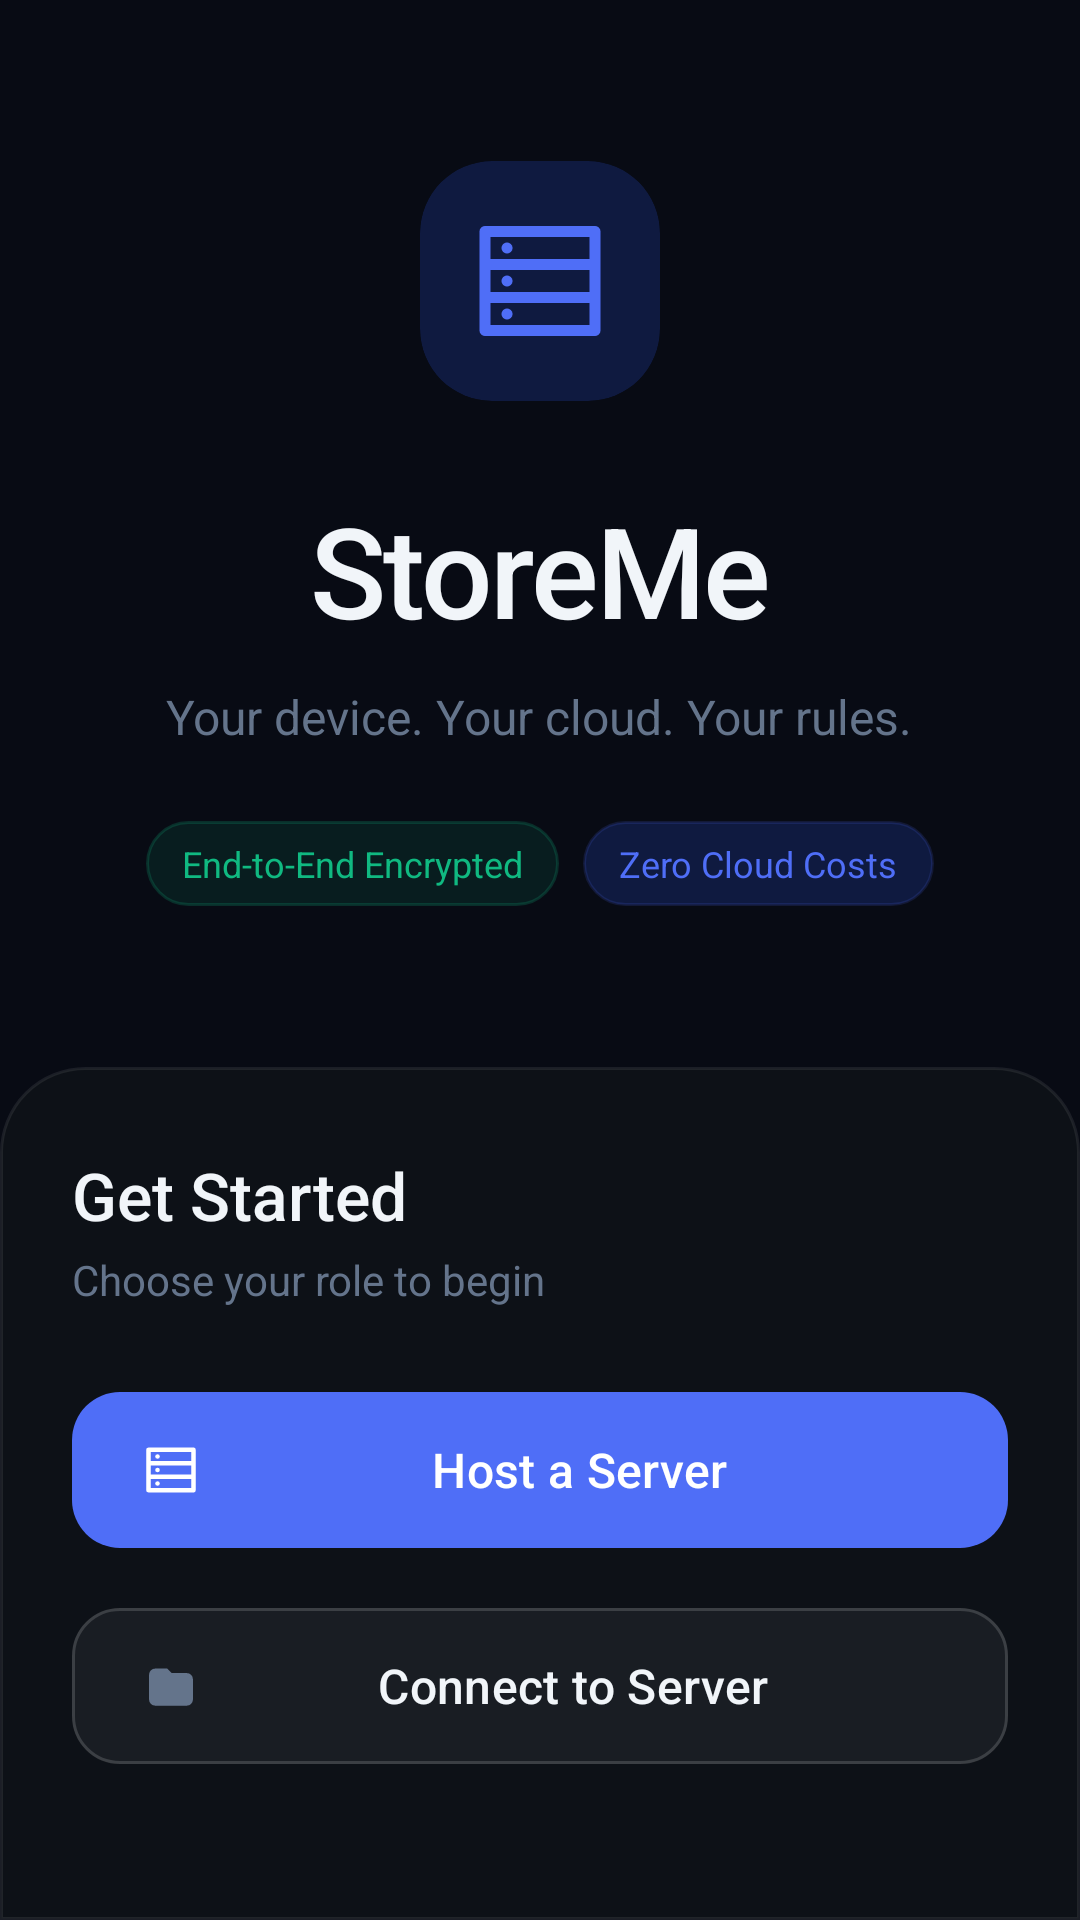

Icon click points for this 1080px×1920px phone screenshot, format (x=x, y=y):
server: (x=540, y=281)
